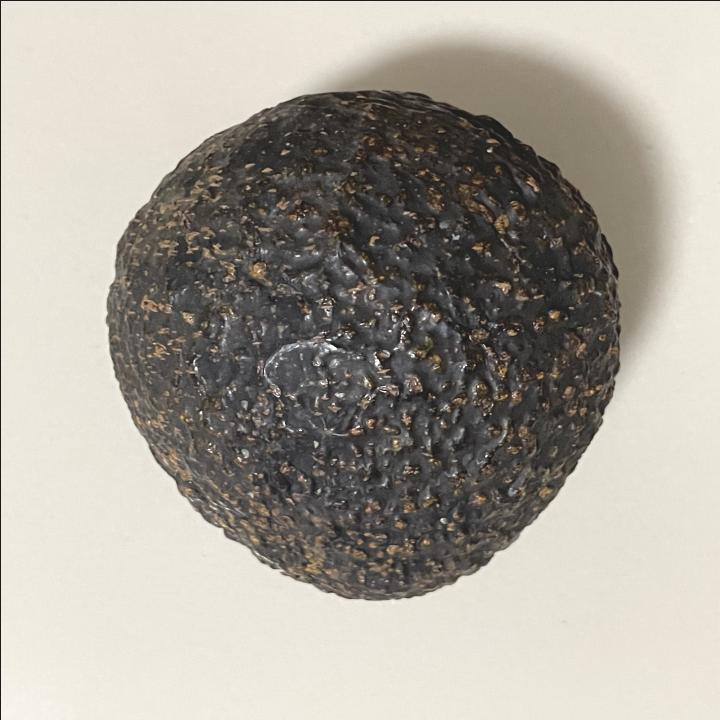Level3: (93, 82, 629, 610)
